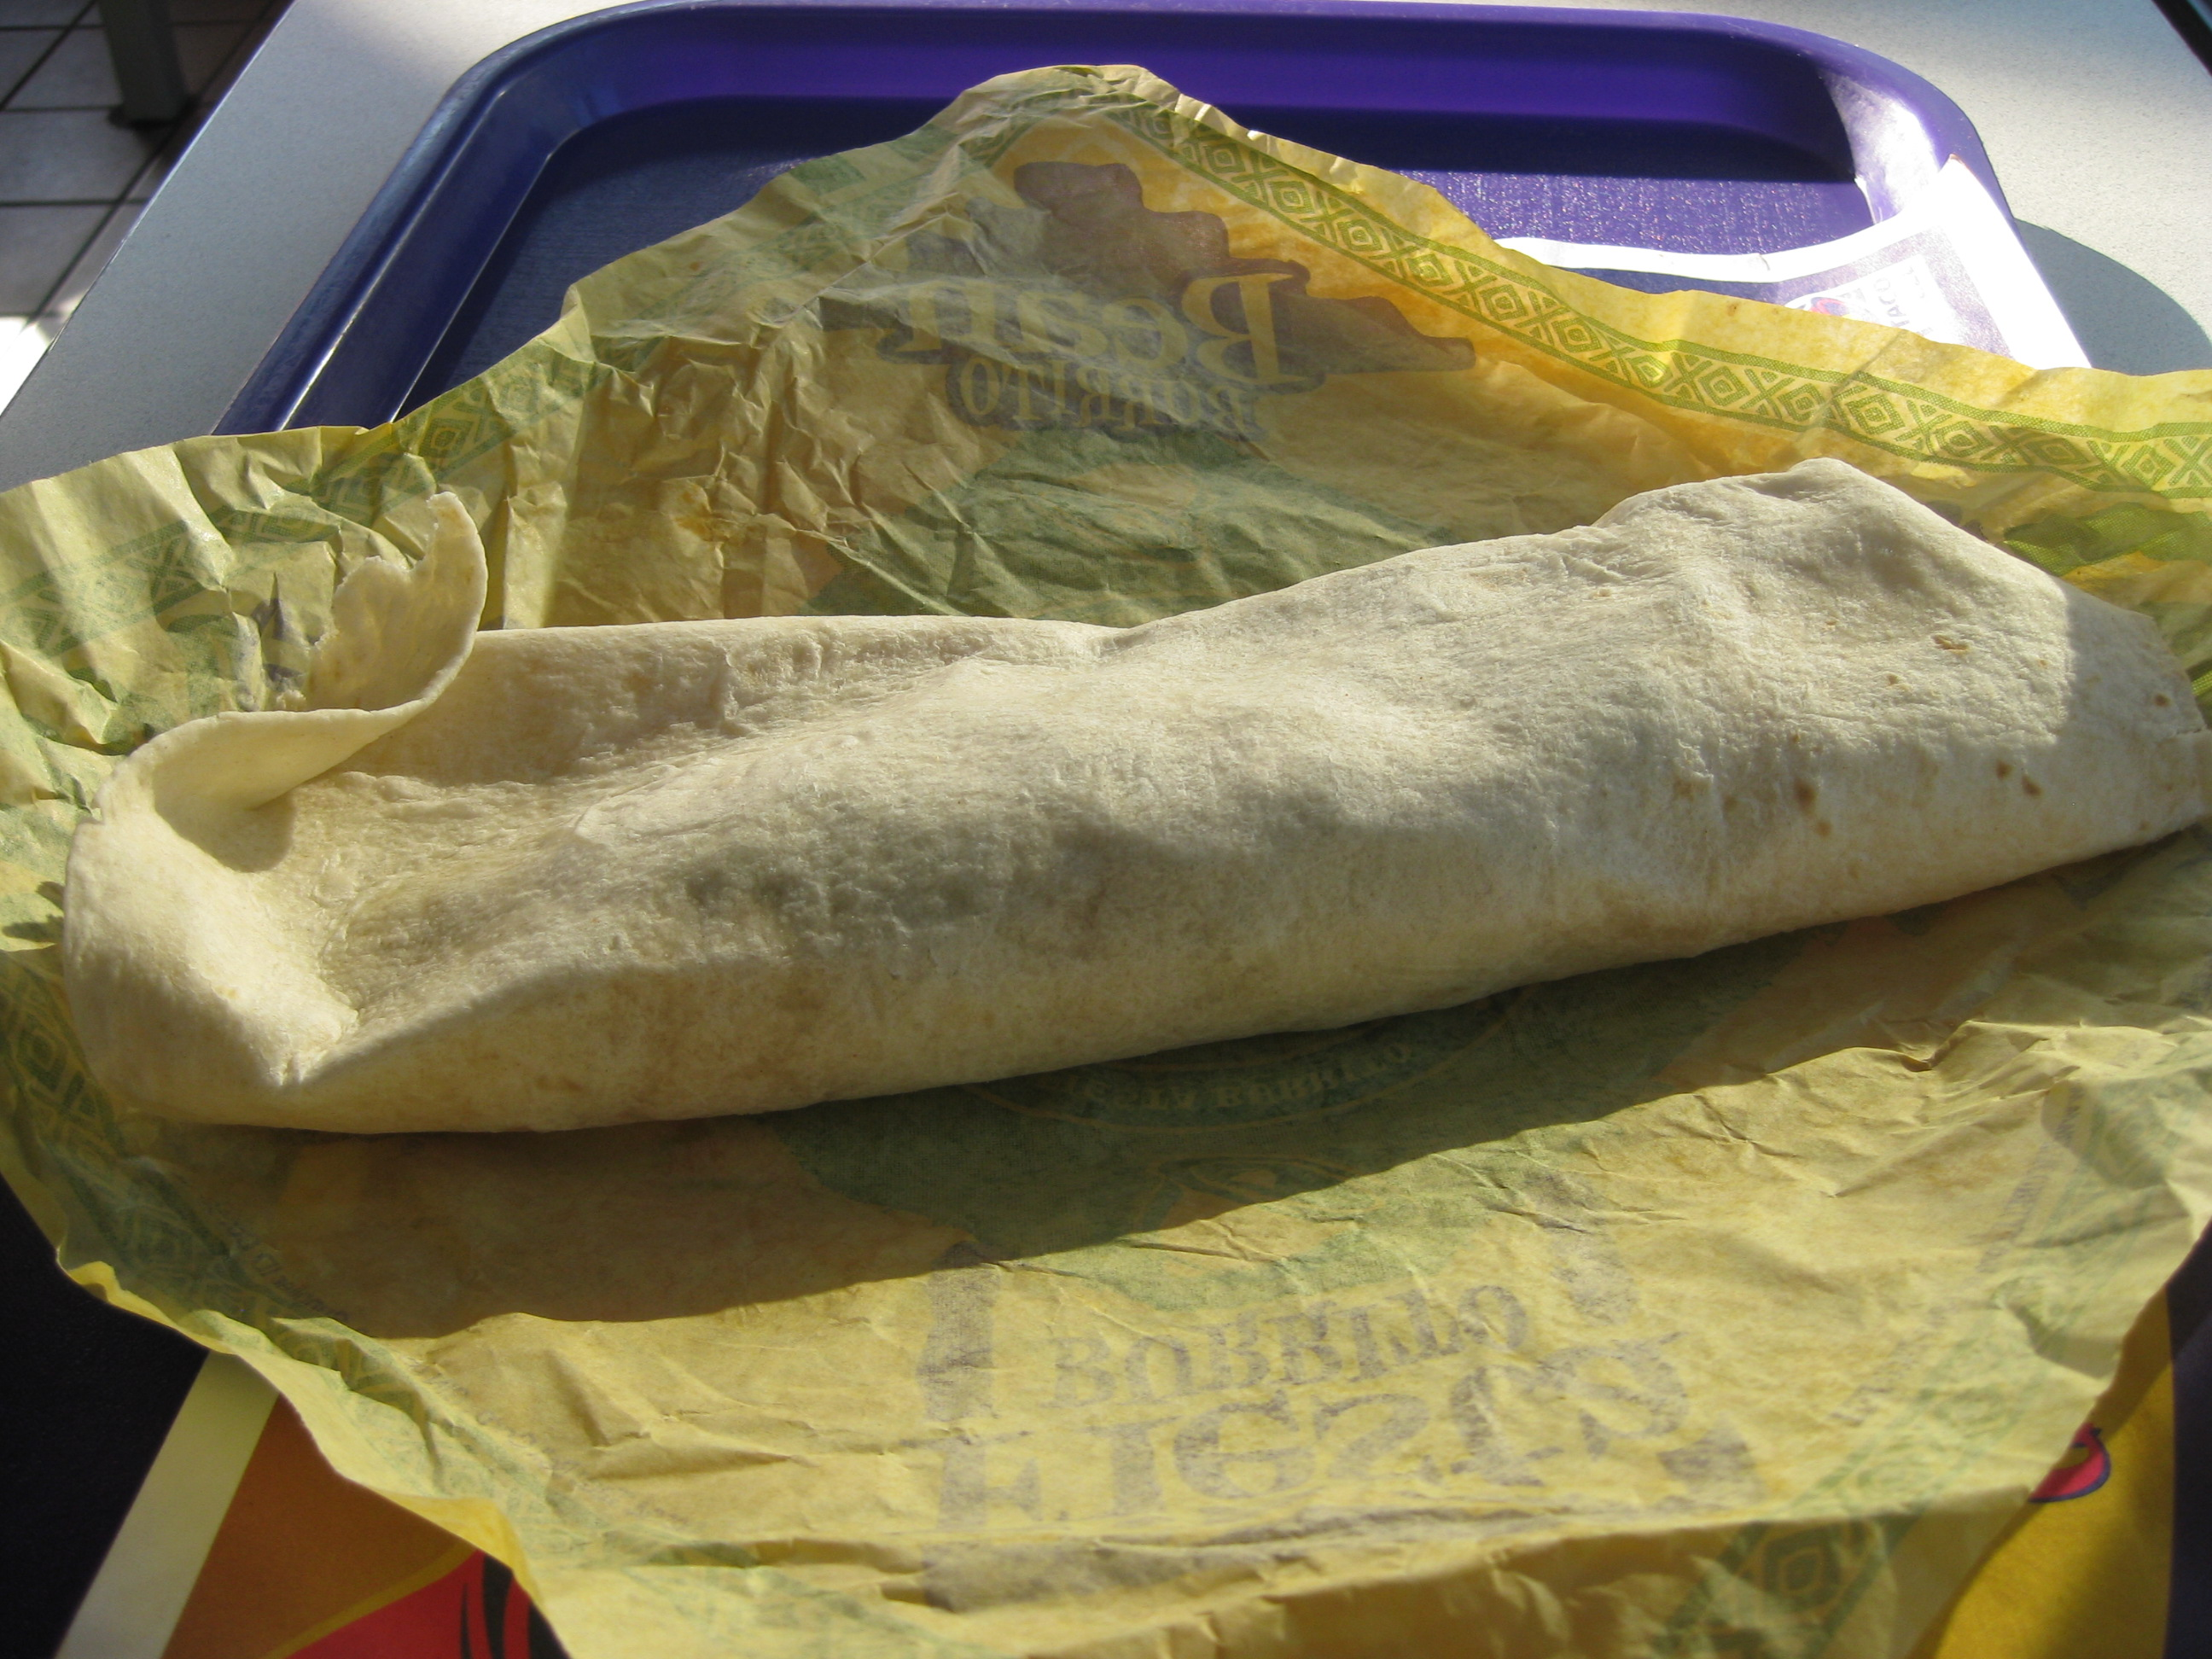burrito: (36, 417, 2192, 1167)
